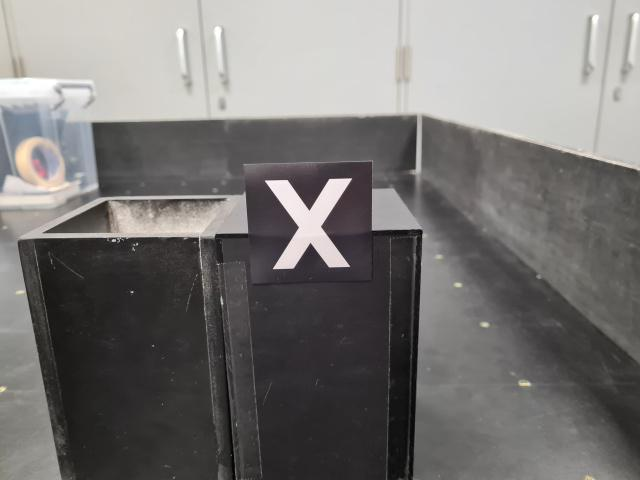x: (243, 161, 376, 283)
